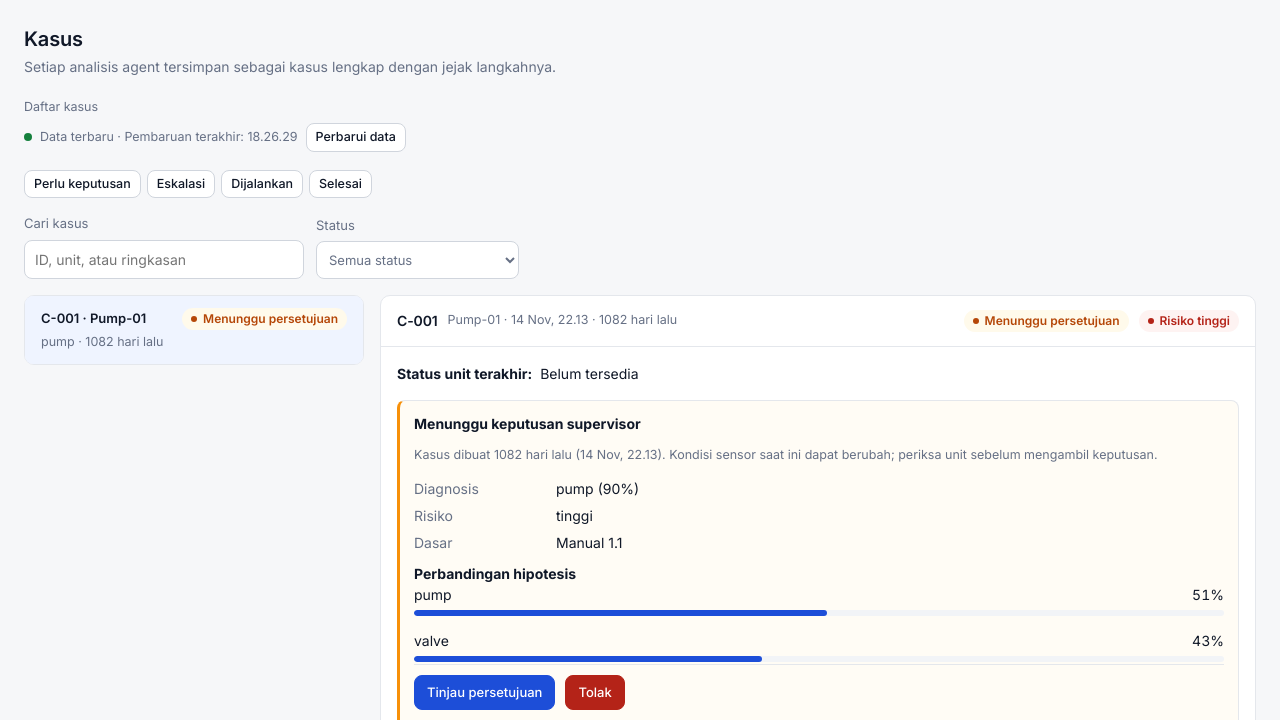
Test: keeps a failed approval visible inside the confirmation
What coordinates should you click on to do the following:
click the button "Tinjau persetujuan"
I would click on:
 (485, 692)
Its box is 414,674 -> 555,710.
(page scrolled)
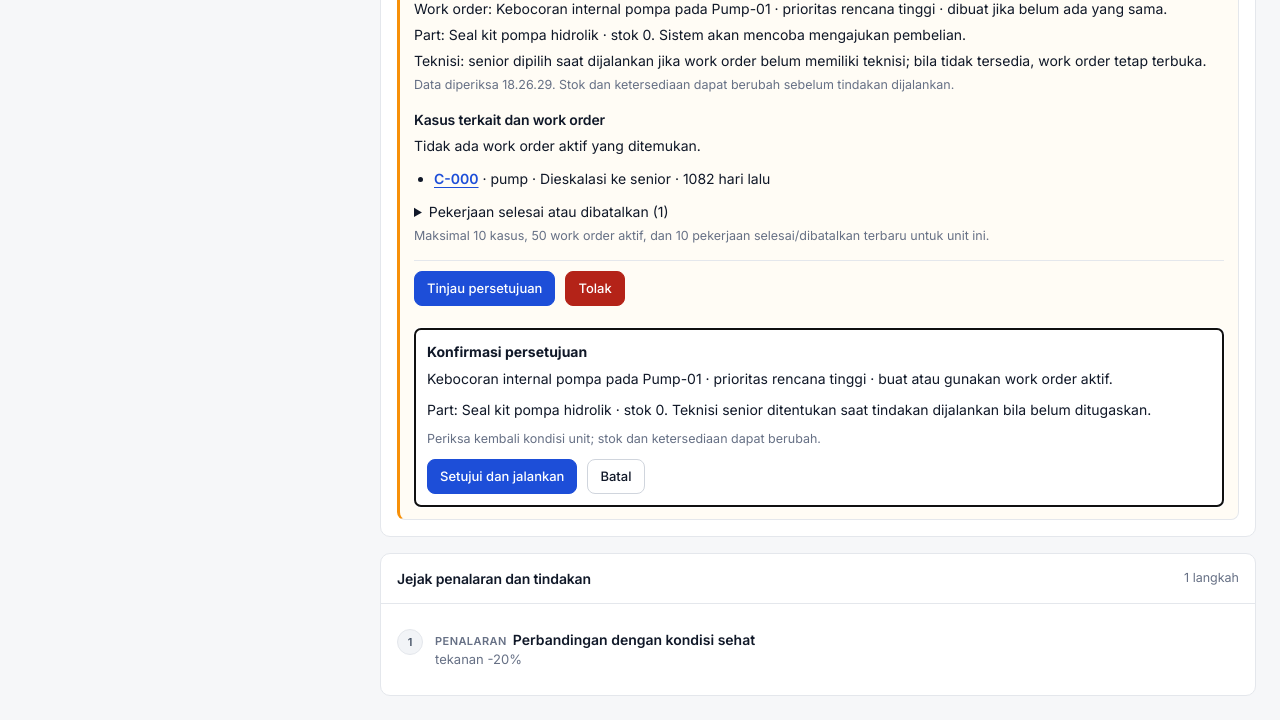
Expected: the button "Setujui dan jalankan" is enabled
What coordinates should you click on to do the following:
click the button "Setujui dan jalankan"
I would click on:
 (502, 477)
Its box is 427,459 -> 577,494.
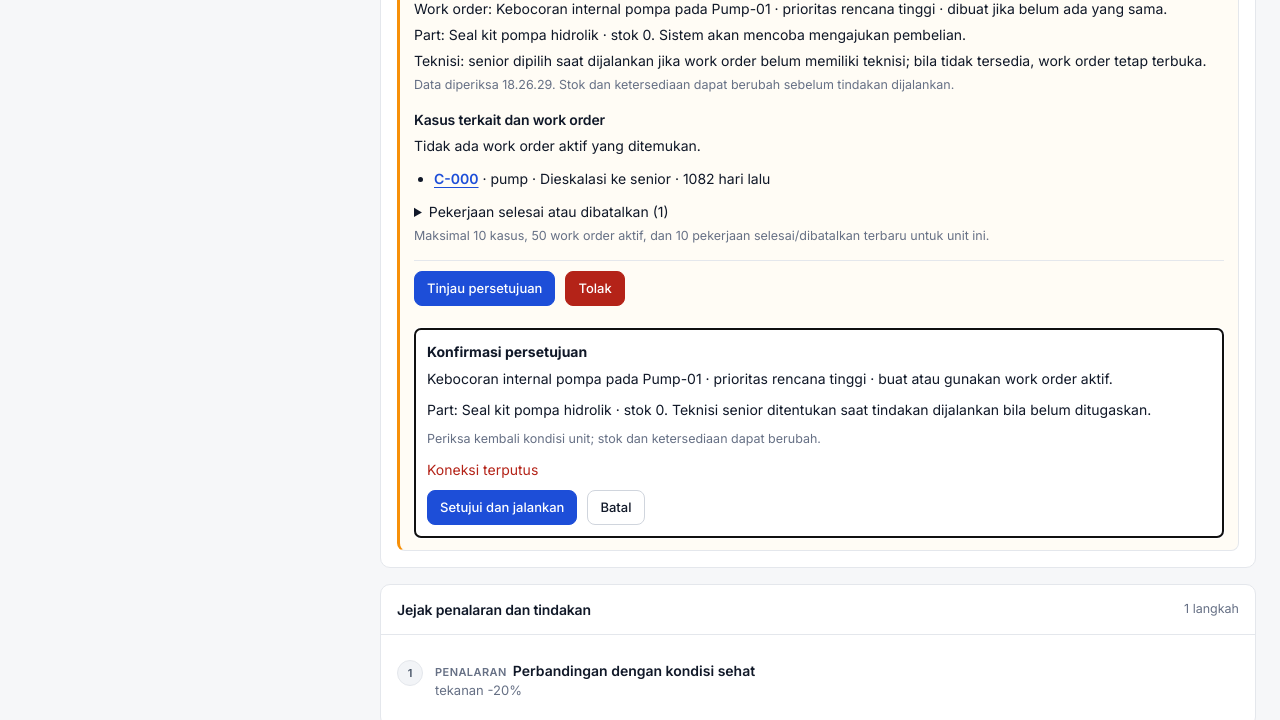
Expected: the message reads "Koneksi terputus", 427,461 -> 538,478
